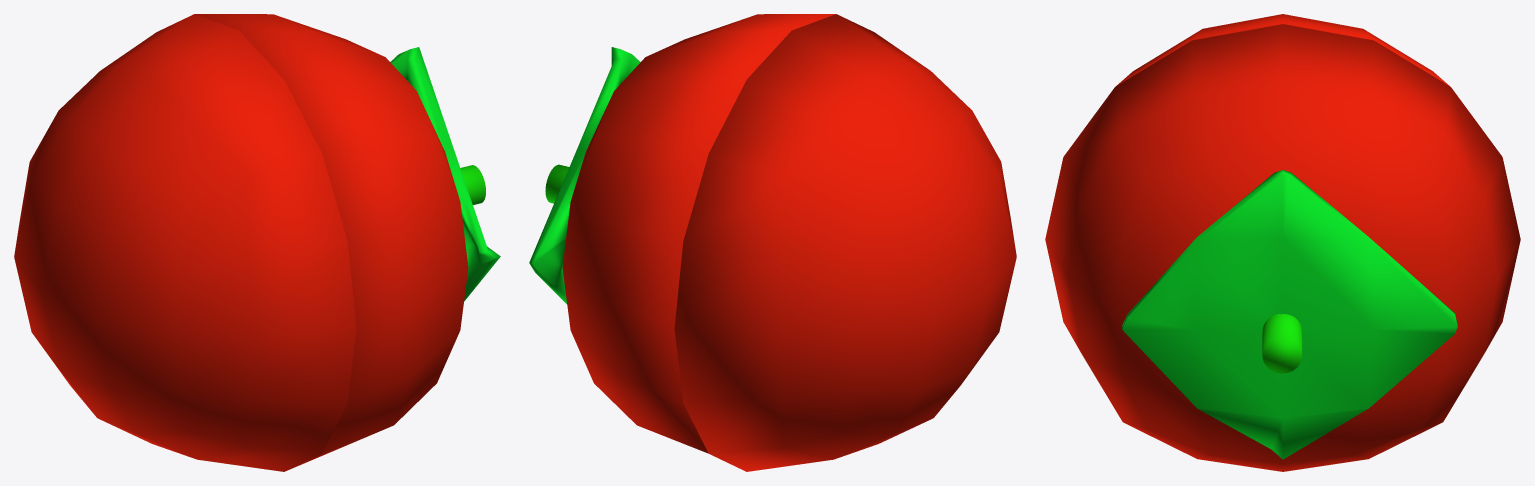
Rendered from tomato.fbx.
3 views of the same model, side by side, from view 1: azimuth 30°, elevation 25°; view 2: azimuth 150°, elevation 25°; view 3: azimuth 270°, elevation 25° (orthographic).
Visible parts, largest first — view 1: Cube, Cube.002, Cube.001, Cylinder; view 2: Cube, Cube.002, Cube.001, Cylinder; view 3: Cube.002, Cube.001, Cube, Cylinder.
Boxes of the visible parts, x1,y1,x2,y2 form: Cube: (14, 14, 356, 471); Cube.002: (195, 14, 468, 469); Cube.001: (390, 47, 500, 301); Cylinder: (460, 165, 485, 205); Cube: (674, 14, 1016, 471); Cube.002: (562, 14, 835, 453); Cube.001: (529, 47, 640, 304); Cylinder: (545, 164, 569, 203); Cube.002: (1045, 24, 1520, 471); Cube.001: (1122, 170, 1457, 459); Cube: (1116, 14, 1449, 86); Cylinder: (1262, 314, 1302, 373).
Bounding box in the file's own units: 371 × 346 × 346.
